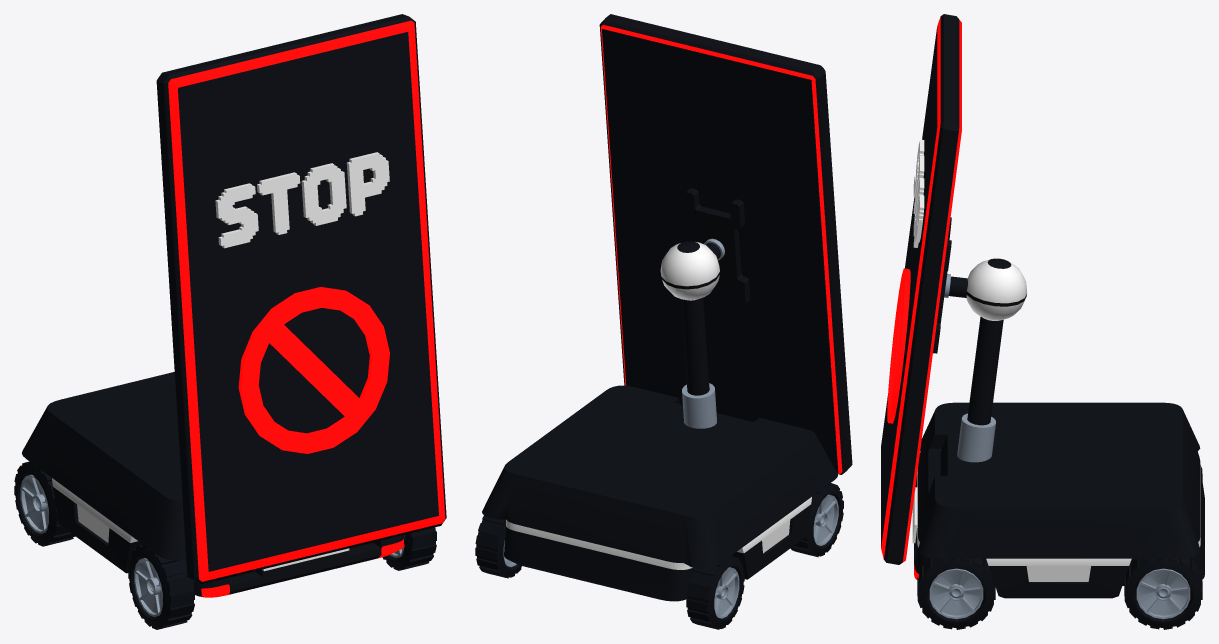
The model's file is obstacle_stop.fbx.
The picture shows the model from 3 angles, left to right: view 1: azimuth 30°, elevation 25°; view 2: azimuth 150°, elevation 25°; view 3: azimuth 270°, elevation 25°; orthographic projection. The views are drawn at different scales.
Parts seen in each view (by area): view 1: Stop_monitor, Stop_body, Stop_icon, Stop_tire, STOP; view 2: Stop_monitor, Stop_body, Stop_tire, Stop_vertical, Stop_holder, Sphere; view 3: Stop_body, Stop_monitor, Stop_tire, Stop_vertical, Sphere, Stop_icon, STOP, Stop_holder, Stop_horizontal.
Boxes of the visible parts, x1,y1,x2,y2 form: Stop_monitor: [156, 14, 446, 584]; Stop_body: [22, 372, 404, 597]; Stop_icon: [238, 287, 389, 453]; Stop_tire: [14, 461, 436, 629]; STOP: [215, 152, 389, 248]; Stop_monitor: [599, 14, 852, 474]; Stop_body: [482, 385, 837, 601]; Stop_tire: [475, 483, 843, 629]; Stop_vertical: [681, 297, 716, 428]; Stop_holder: [684, 188, 750, 304]; Sphere: [660, 241, 719, 300]; Stop_body: [912, 402, 1204, 598]; Stop_monitor: [881, 14, 961, 564]; Stop_tire: [917, 465, 1202, 629]; Stop_vertical: [957, 316, 1003, 462]; Sphere: [966, 258, 1026, 320]; Stop_icon: [887, 268, 910, 423]; STOP: [913, 139, 924, 247]; Stop_holder: [933, 217, 951, 353]; Stop_horizontal: [944, 274, 967, 297].
Size of the model in its own units: 242 by 472 by 275.
